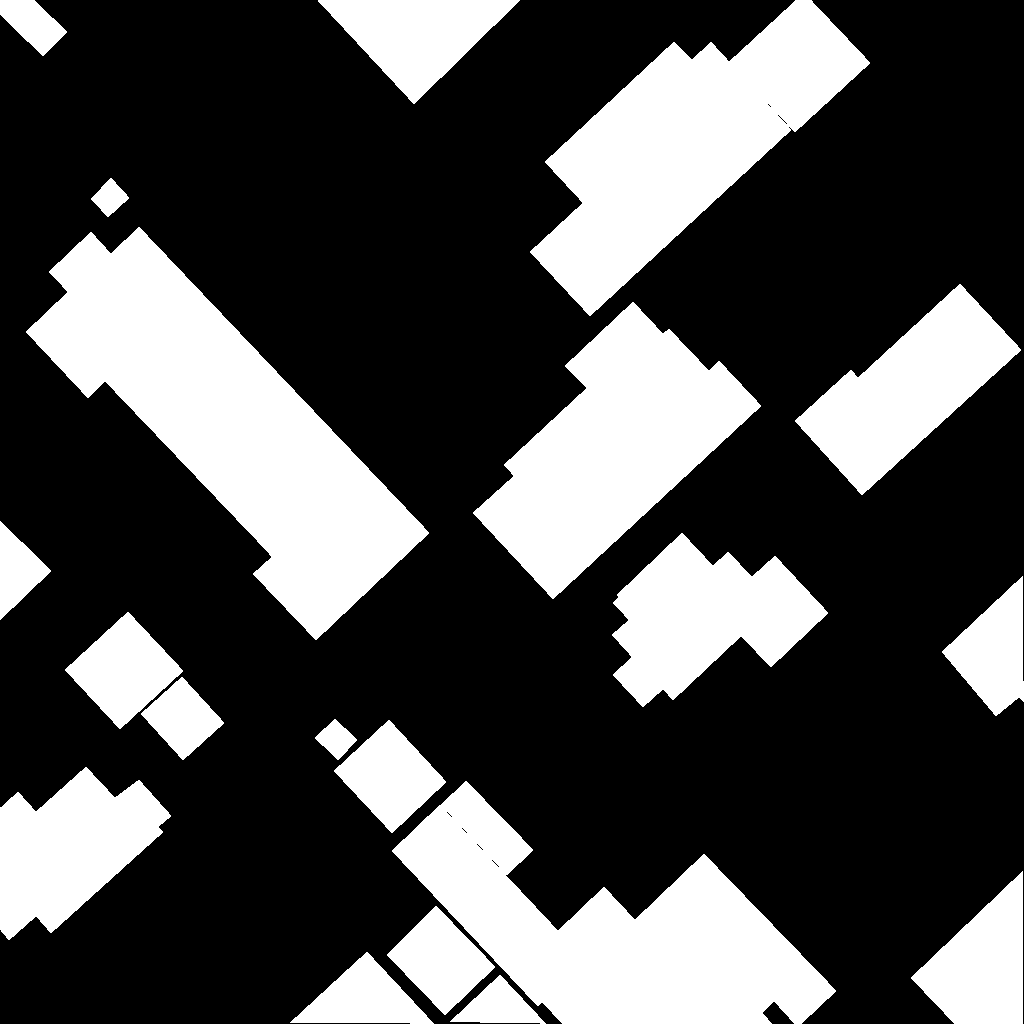building: (26, 227, 430, 641), (392, 805, 837, 1024), (473, 302, 762, 600), (530, 42, 792, 317), (795, 284, 1022, 496), (612, 533, 829, 708), (0, 767, 172, 941), (317, 0, 521, 105), (729, 0, 871, 133), (911, 871, 1024, 1024), (65, 612, 184, 730), (334, 720, 447, 834), (387, 906, 496, 1016), (942, 576, 1024, 717), (290, 952, 435, 1024), (441, 781, 534, 876), (141, 677, 225, 761), (0, 521, 52, 621), (450, 975, 547, 1024), (0, 0, 68, 57), (315, 719, 358, 761), (91, 178, 130, 218)
